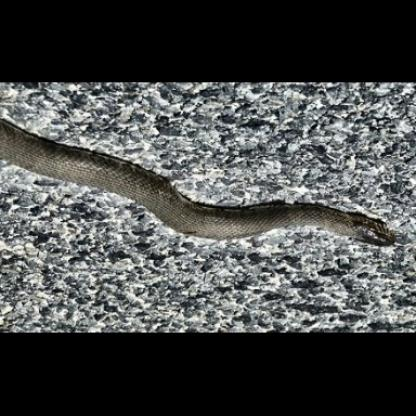Snake: (2, 131, 412, 250)
